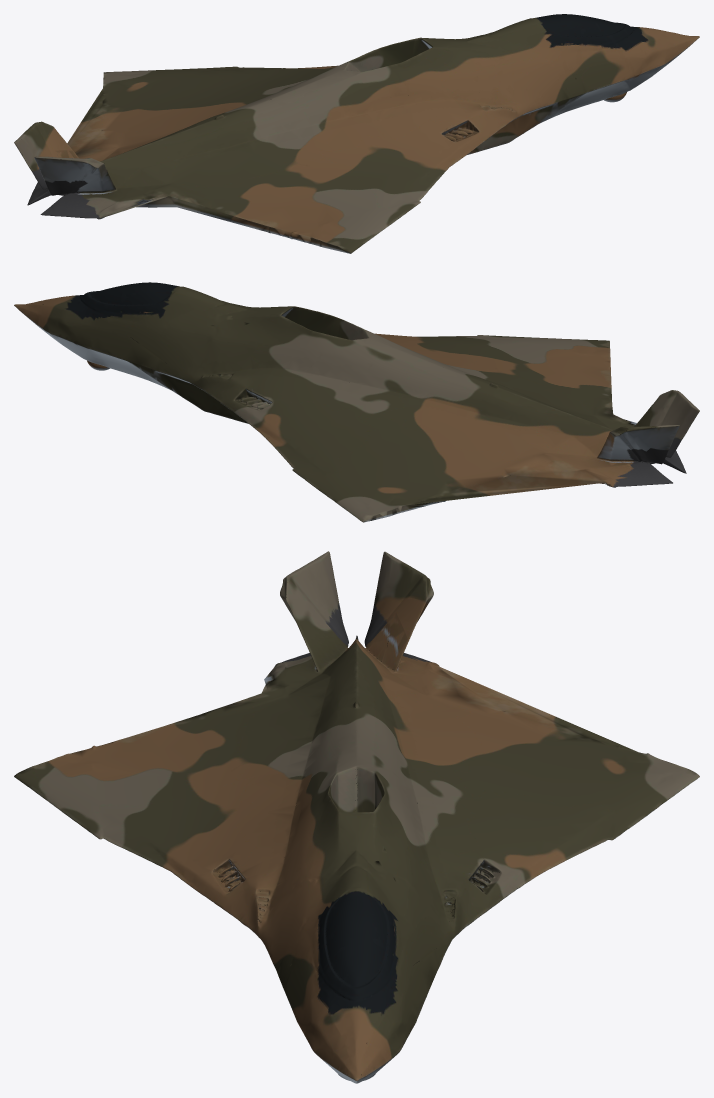
File: fh_hangar_fighter_t4.glb
3 renders of one model, top to bottom at view 1: azimuth 30°, elevation 25°; view 2: azimuth 150°, elevation 25°; view 3: azimuth 270°, elevation 25°, orthographic. The views are drawn at different scales.
Parts seen in each view (by area): view 1: fh_hangar_fighter_t4, flap_r, flap_l, slat_r, slat_l; view 2: fh_hangar_fighter_t4, flap_l, flap_r, slat_l, slat_r; view 3: fh_hangar_fighter_t4, flap_l, flap_r, slat_l, slat_r.
Part boxes in pixels (box(x1,y1,x2,y2)): fh_hangar_fighter_t4: box(14, 14, 699, 253); flap_r: box(187, 175, 306, 233); flap_l: box(67, 95, 151, 150); slat_r: box(380, 165, 450, 224); slat_l: box(172, 66, 302, 71); fh_hangar_fighter_t4: box(14, 282, 699, 522); flap_l: box(416, 453, 567, 502); flap_r: box(531, 361, 612, 406); slat_l: box(261, 433, 333, 492); slat_r: box(410, 335, 543, 339); fh_hangar_fighter_t4: box(14, 551, 699, 1083); flap_l: box(476, 682, 595, 754); flap_r: box(118, 701, 237, 759); slat_l: box(541, 802, 649, 873); slat_r: box(64, 802, 172, 872).
Size of the model in its own units: 1 by 0.1457 by 0.6334.
3 materials, 2 textured.
